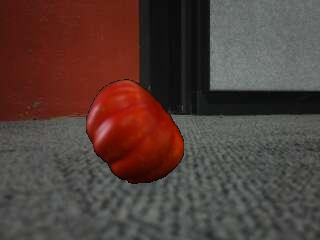Pumpkin: (86, 78, 184, 186)
